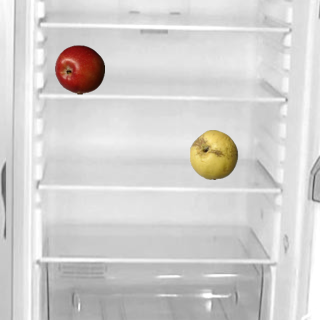Apple Braeburn: (54, 44, 104, 94)
Apple Golden 1: (188, 129, 238, 179)
